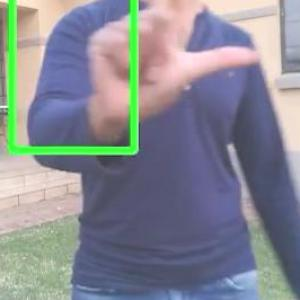land_hand: (77, 0, 262, 123)
